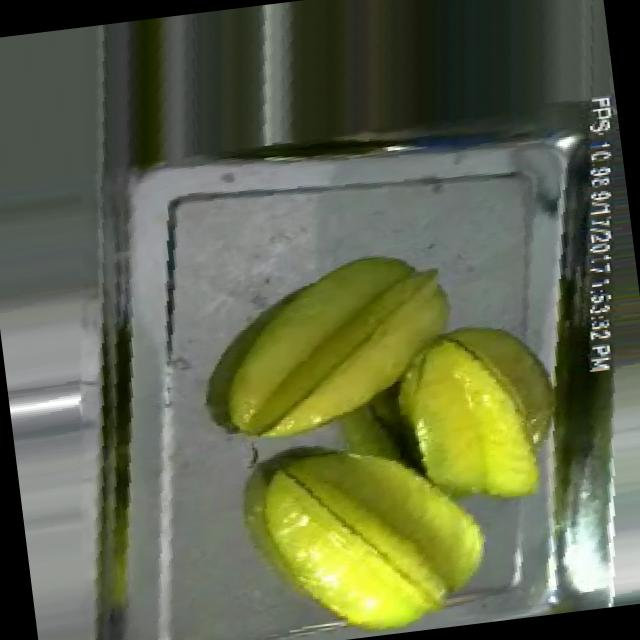fruit: (183, 231, 478, 461), (230, 412, 509, 640), (373, 299, 583, 532)
